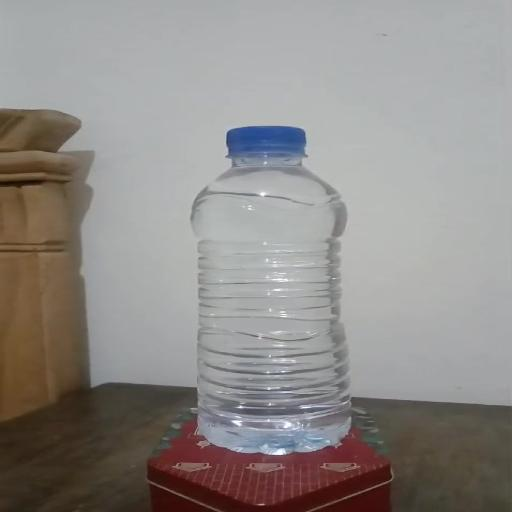bouteille non conformite: (155, 130, 414, 454)
